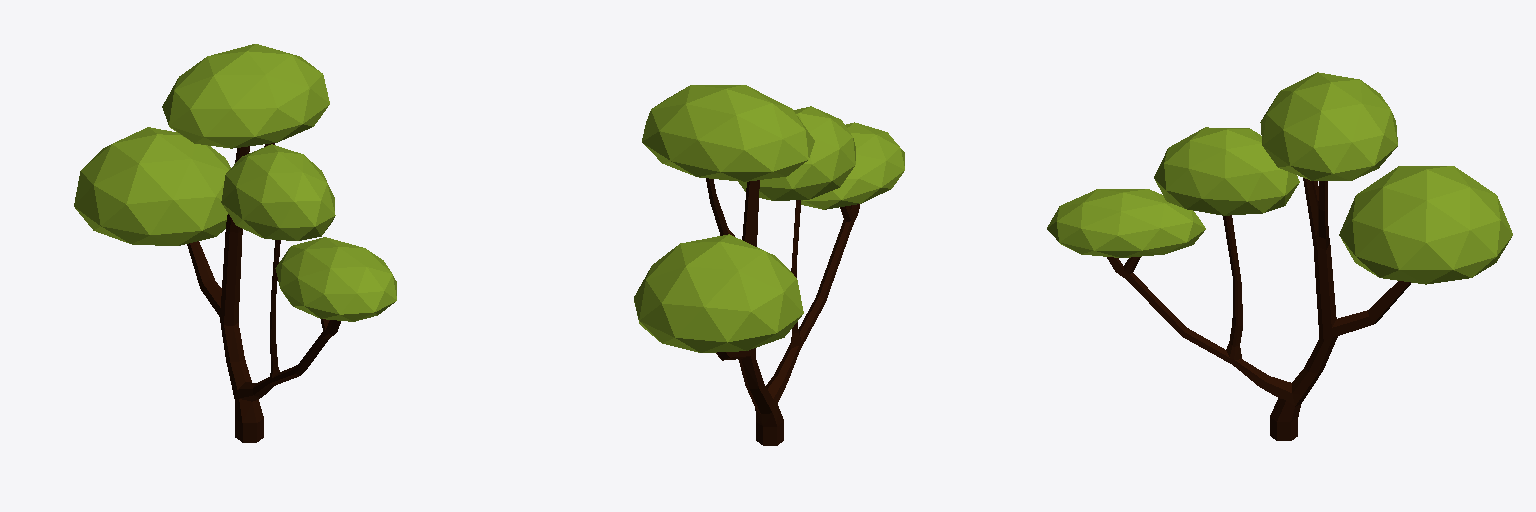
Rendered from Tree4.obj.
The picture shows the model from 3 angles: view 1: azimuth 30°, elevation 25°; view 2: azimuth 150°, elevation 25°; view 3: azimuth 270°, elevation 25°; orthographic projection.
Visible parts, largest first — view 1: Tree4_Cylinder.003; view 2: Tree4_Cylinder.003; view 3: Tree4_Cylinder.003.
Part boxes in pixels (bbox=[...]): Tree4_Cylinder.003: bbox=[74, 44, 396, 442]; Tree4_Cylinder.003: bbox=[634, 85, 904, 445]; Tree4_Cylinder.003: bbox=[1047, 72, 1512, 440].
Bounding box in the file's own units: 3.77 × 6.85 × 7.96.